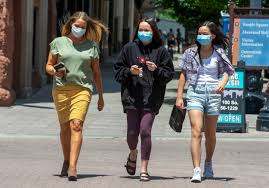with-mask: (61, 11, 95, 42), (192, 18, 224, 50), (131, 16, 159, 47)
